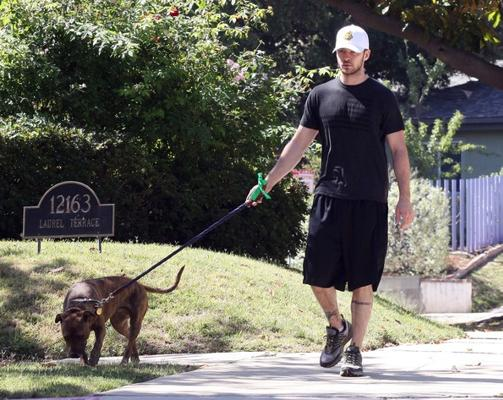person: (248, 25, 414, 381)
